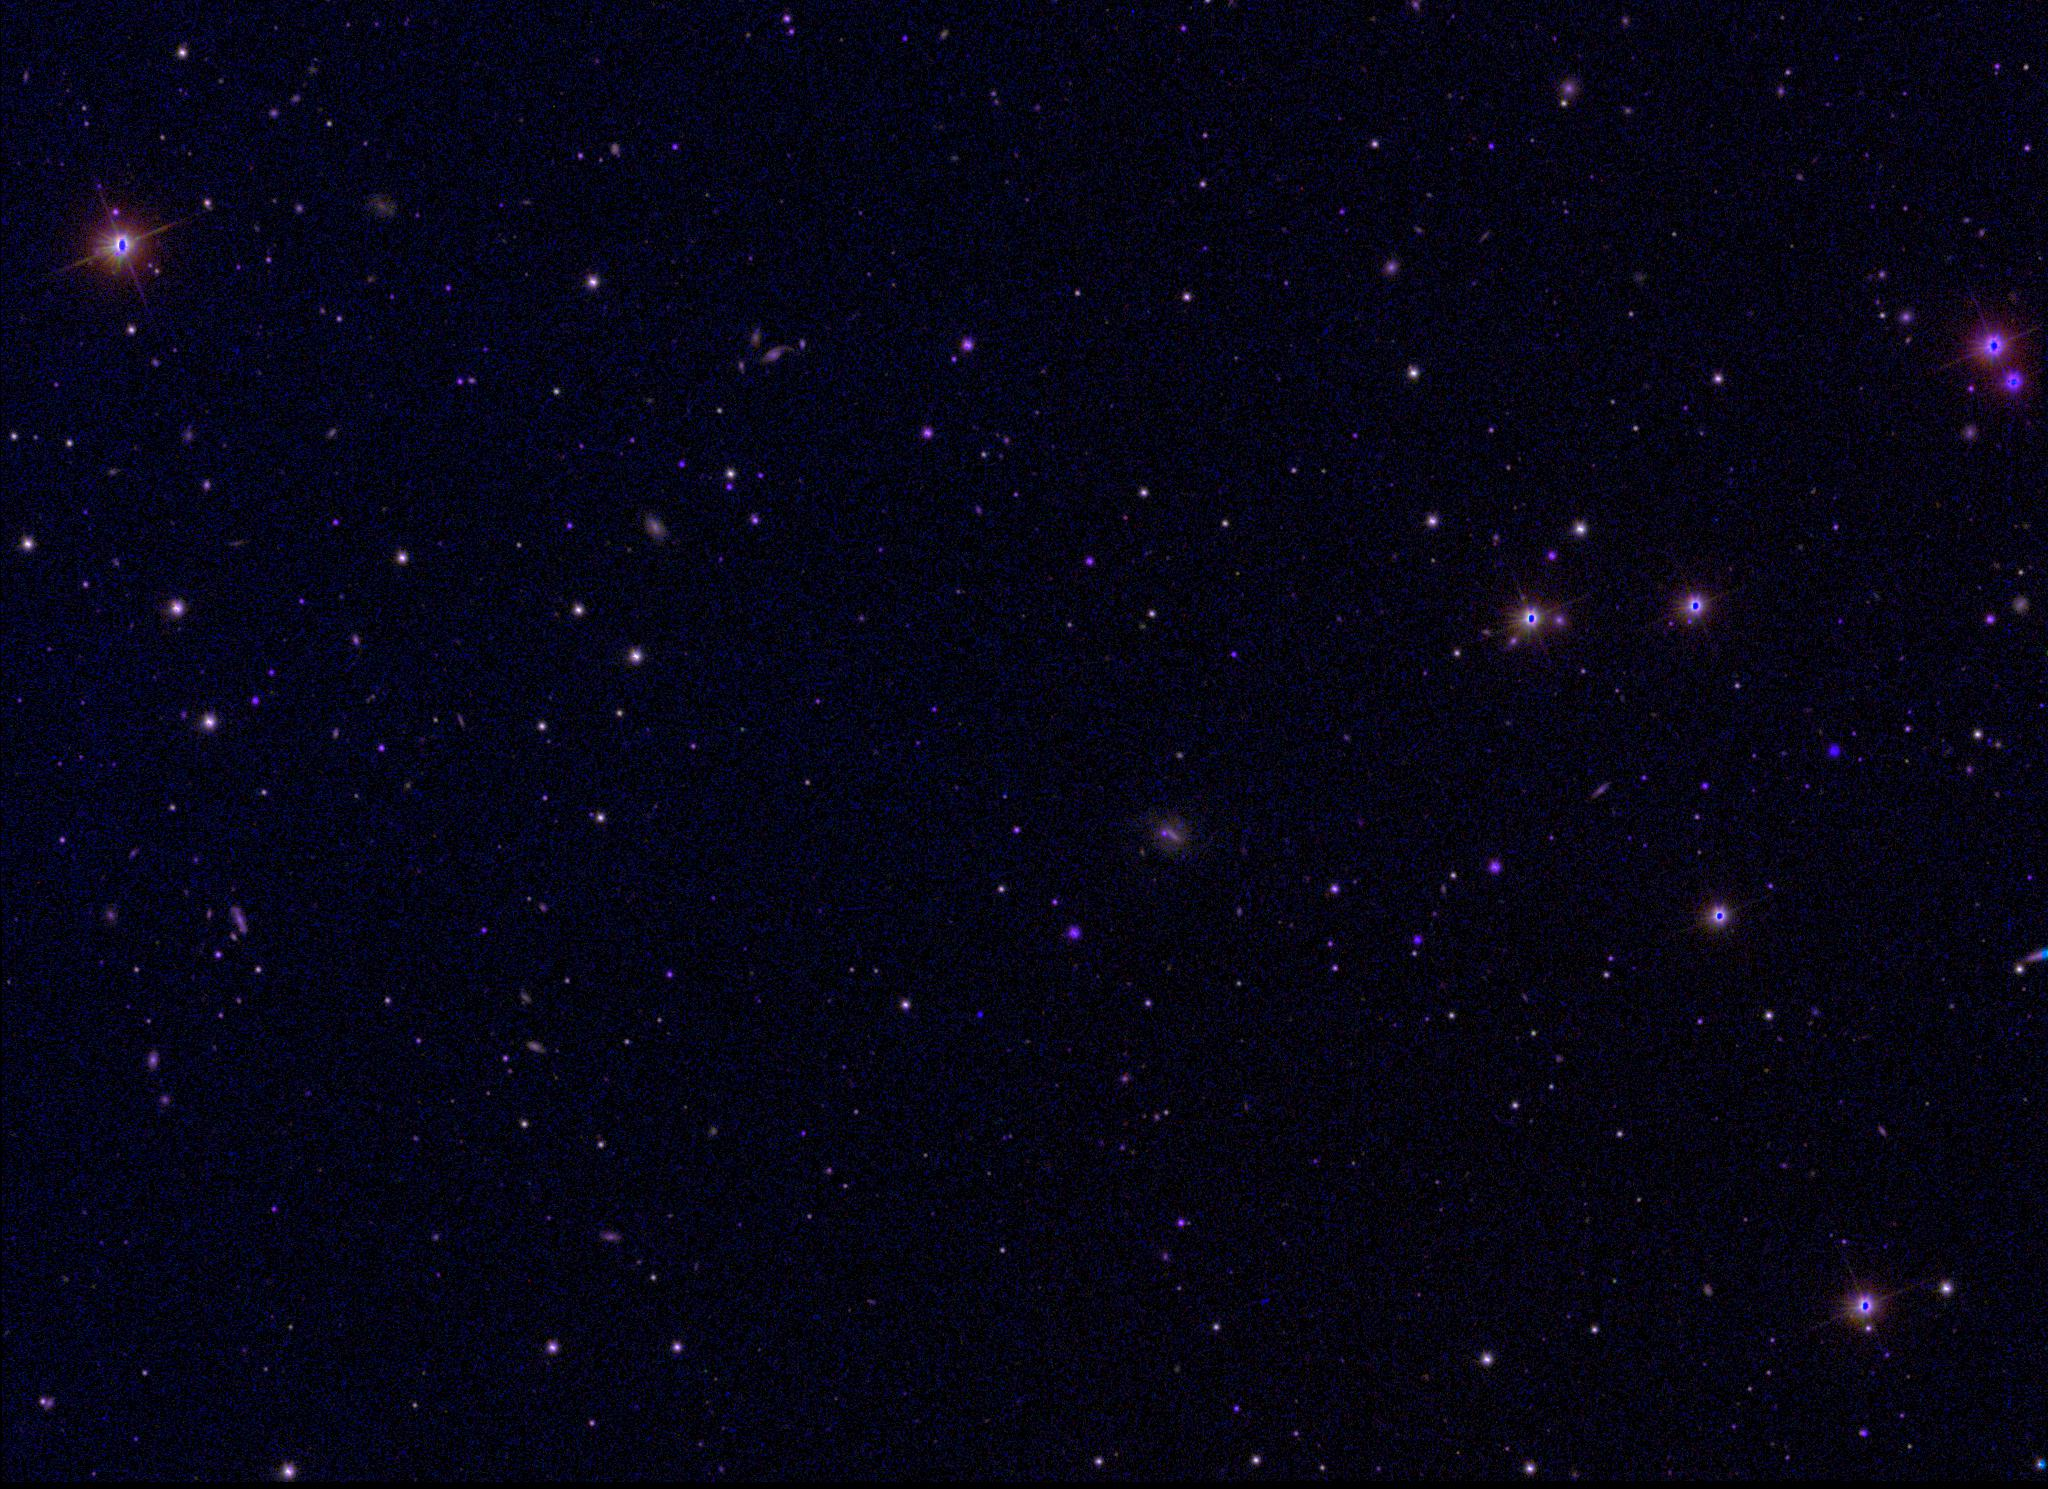L: (973, 1009, 987, 1021)
